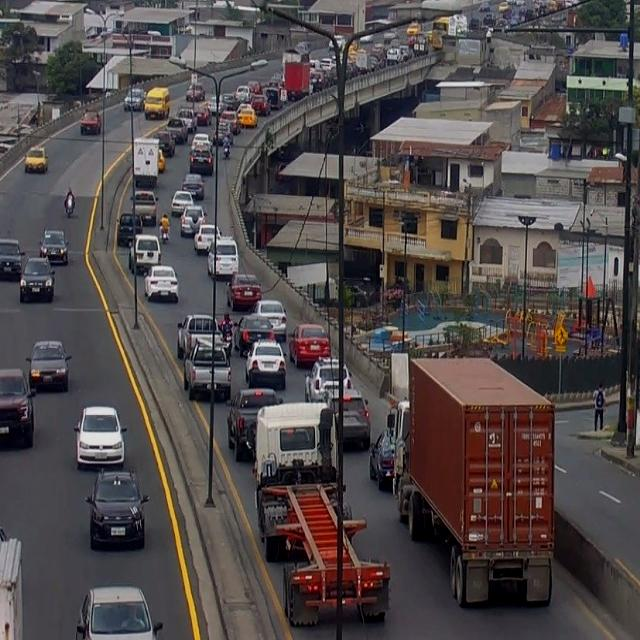BUS: (146, 88, 171, 122)
CMT: (228, 392, 274, 459), (0, 368, 34, 449), (187, 344, 232, 402), (176, 314, 215, 359)
SED: (78, 582, 163, 638), (76, 404, 125, 466), (29, 339, 70, 392), (289, 325, 330, 367), (43, 229, 69, 264), (0, 239, 22, 279), (26, 147, 48, 175)
SUV: (90, 472, 147, 552), (19, 258, 55, 302)
TRUCK: (400, 355, 553, 608), (255, 407, 390, 633), (0, 535, 24, 638), (133, 140, 160, 191)
